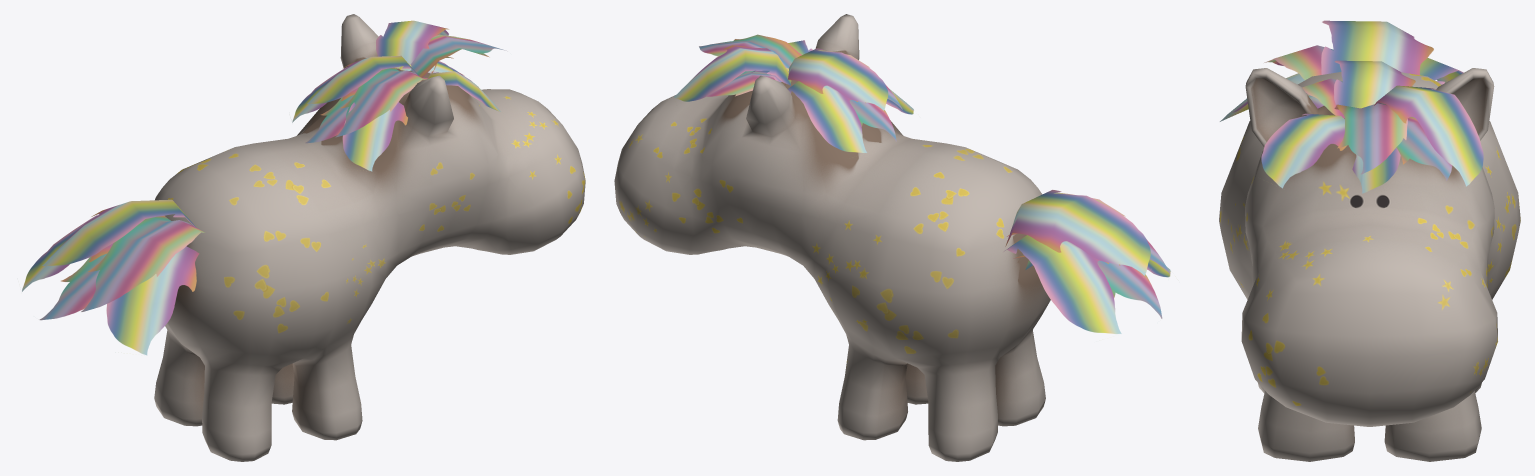
Rendered from pony.glb.
3 views of the same model, side by side, from view 1: azimuth 30°, elevation 25°; view 2: azimuth 150°, elevation 25°; view 3: azimuth 270°, elevation 25° (orthographic). The views are drawn at different scales.
Parts seen in each view (by area): view 1: pony, rainbowmane; view 2: pony, rainbowmane; view 3: pony, rainbowmane.
Boxes of the visible parts, box(x1,y1,x2,y2) form: pony: box(154, 14, 585, 461); rainbowmane: box(22, 20, 506, 355); pony: box(614, 14, 1050, 461); rainbowmane: box(674, 34, 1170, 333); pony: box(1219, 68, 1520, 461); rainbowmane: box(1220, 20, 1483, 193).
Size of the model in its own units: 3.63 by 2.25 by 1.41.
2 materials, 2 textured.
